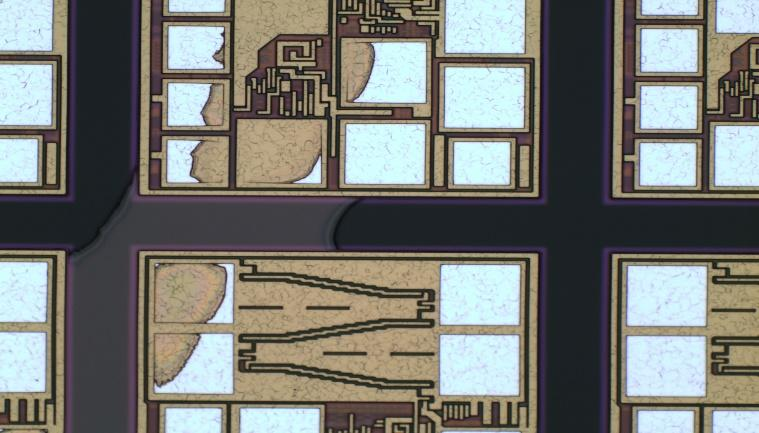COATING BAD: (1, 1, 377, 433)
